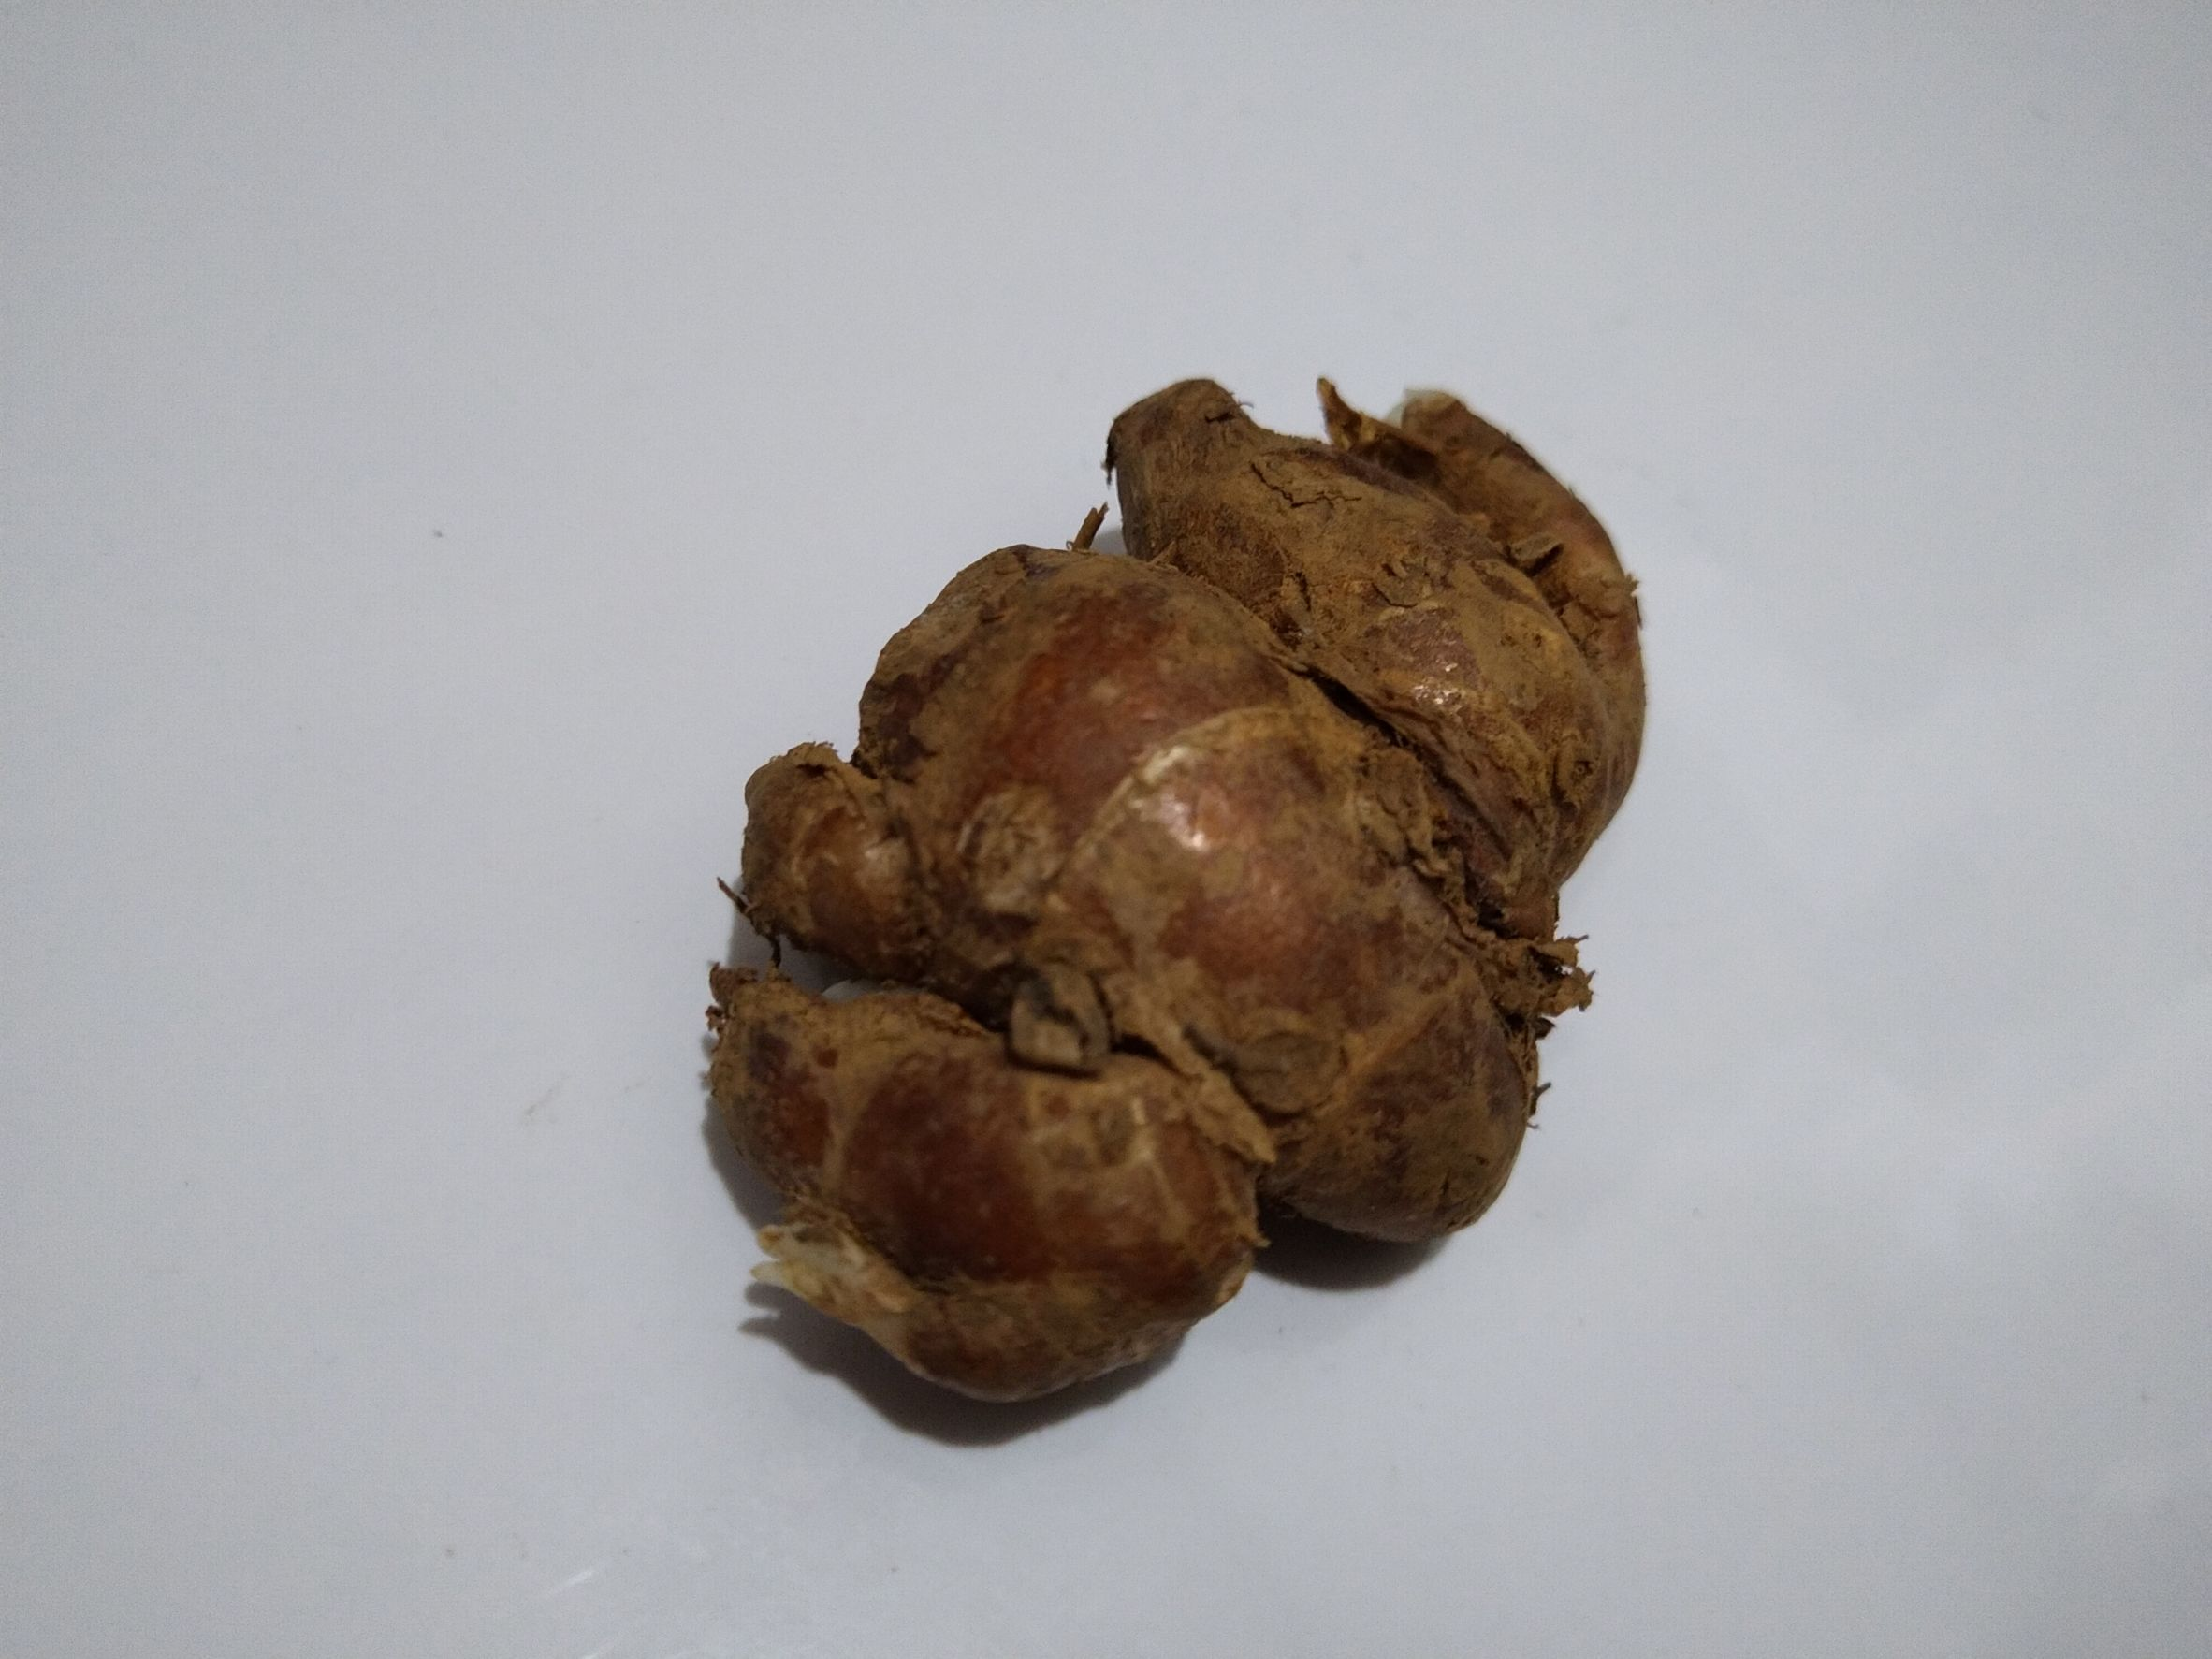Kencur: (711, 387, 1658, 1448)
